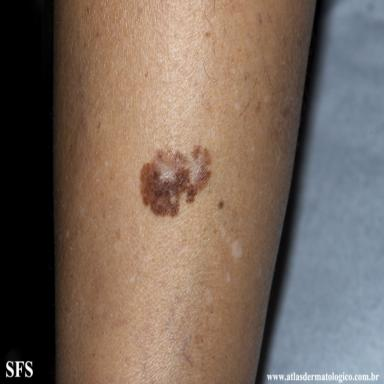Melanoma: (140, 146, 211, 215)
